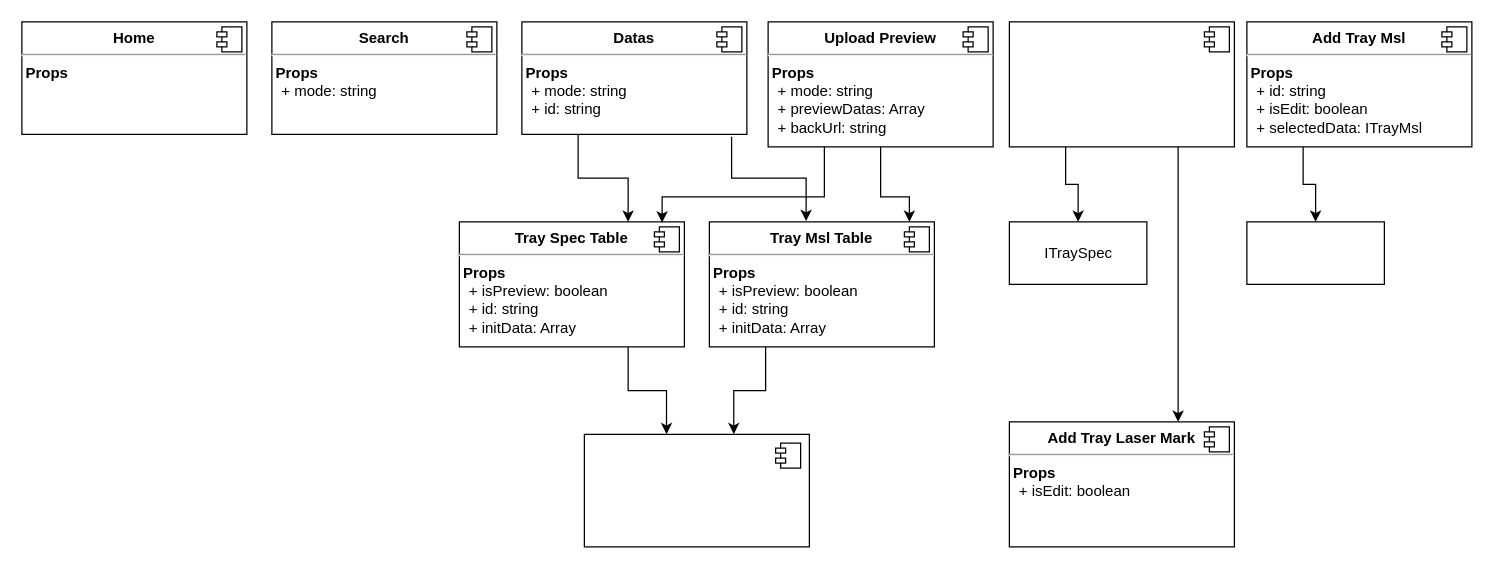
Some shapes in this 1494 by 569 pixel diagram are drawn without their labels. The shapes that lost their labels are listed below. From the top down, each one's centre as x and y in pixels, then its label:
At pixel 1121 84: "Add Tray Spec Props + id: string + isEdit: boolean + selectedData: ITraySpec".
At pixel 1315 252: "ITrayMsl".
At pixel 696 490: "Bootstrap Table".
